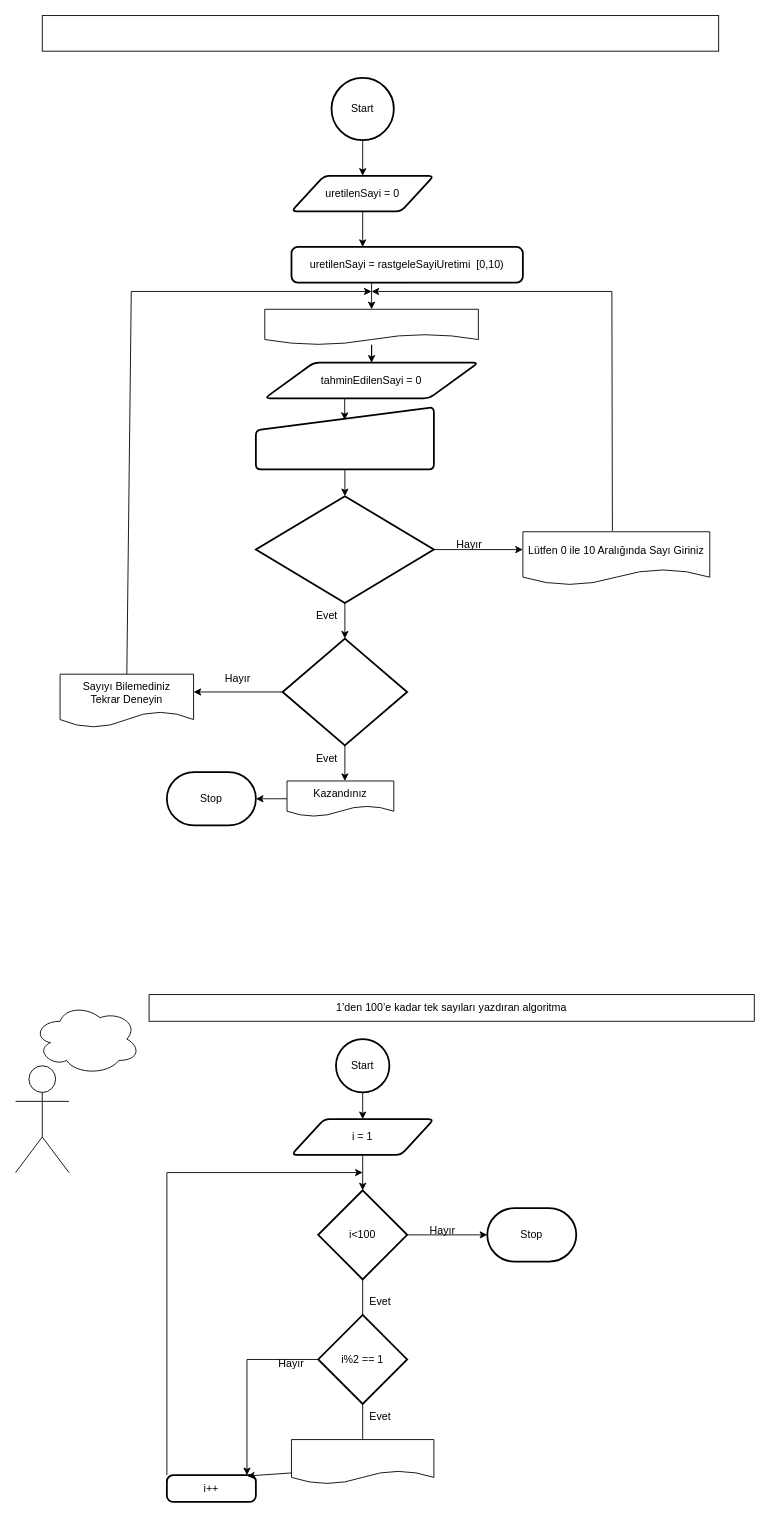
This 770x1518 diagram has some shape labels left out. Here are the shapes that lost their labels. From the top down, the centre of each, then its label:
point 380,33: Sayı Tahmin Oyunu
point 371,326: Lütfen Bir Sayı Tahmin Ediniz [0,10) :
point 344,438: tahminEdilenSayi = gonderilenSayi
point 344,549: tahminEdilenSayi >=0 && tahminEdilenSayi < 10
point 344,691: tahminEdilenSayi == uretilenSayi
point 86,1039: Think simple!
point 42,1119: Ubn-Jr's
point 362,1461: Ekrana Yazdır : i
